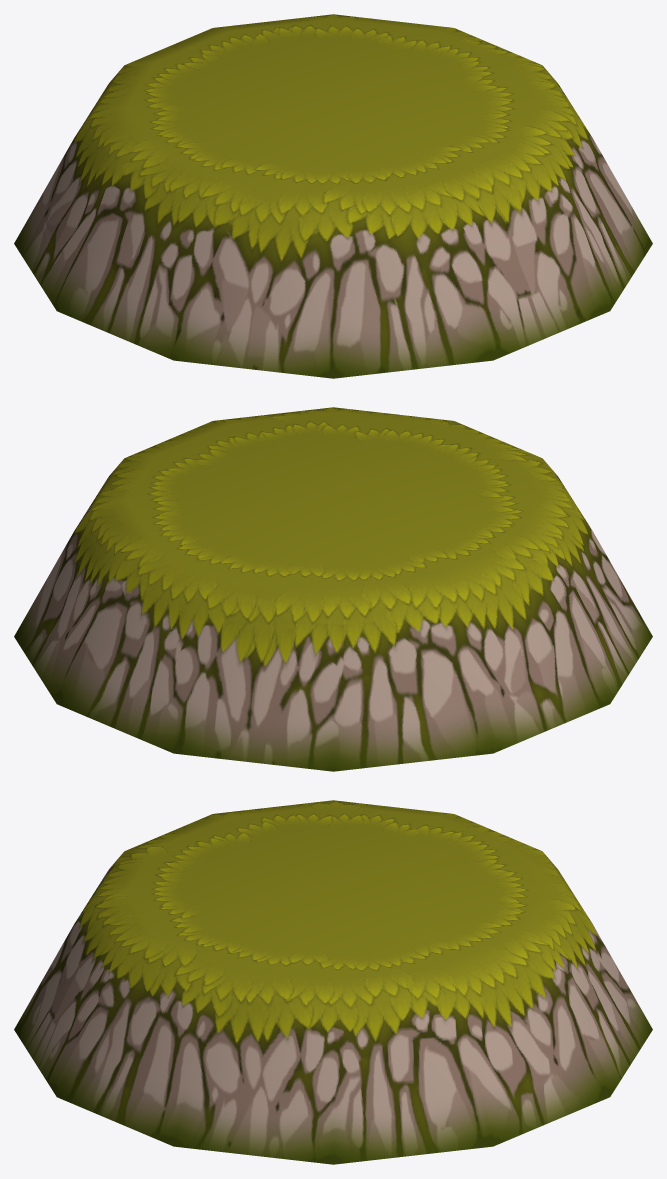
The model's file is Hill5.glb.
3 views of the same model, one above another, from view 1: azimuth 30°, elevation 25°; view 2: azimuth 150°, elevation 25°; view 3: azimuth 270°, elevation 25° (orthographic).
Parts seen in each view (by area): view 1: Hill_05; view 2: Hill_05; view 3: Hill_05.
Boxes of the visible parts, box(x1,y1,x2,y2) form: Hill_05: box(14, 14, 652, 378); Hill_05: box(14, 407, 652, 771); Hill_05: box(14, 800, 652, 1164).
Size of the model in its own units: 224 by 52.98 by 224.
Materials: 1 (1 with a texture image).
